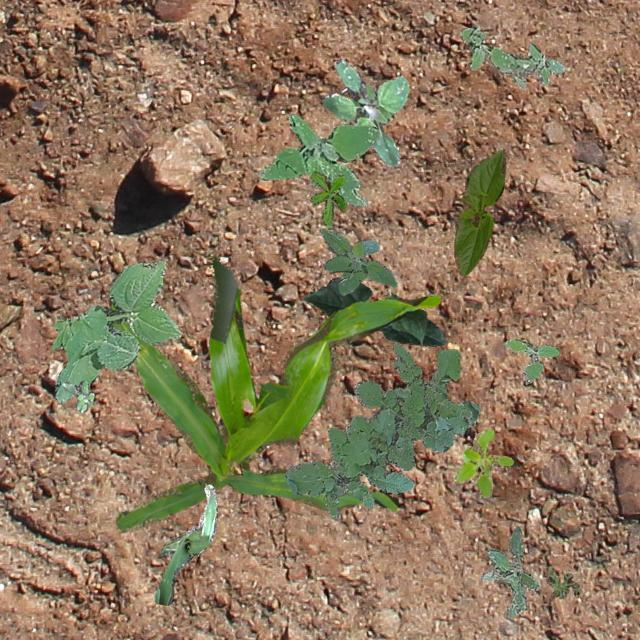crop: (110, 255, 440, 530), (302, 276, 446, 346), (154, 484, 216, 604), (452, 148, 504, 274), (450, 399, 480, 434)
weed: (284, 342, 470, 518), (50, 258, 182, 401), (258, 112, 378, 206), (321, 58, 408, 164), (458, 24, 564, 89), (480, 526, 540, 618), (320, 228, 396, 294), (452, 428, 512, 497), (503, 338, 558, 383), (310, 170, 344, 226), (544, 566, 580, 598), (62, 379, 92, 412)
